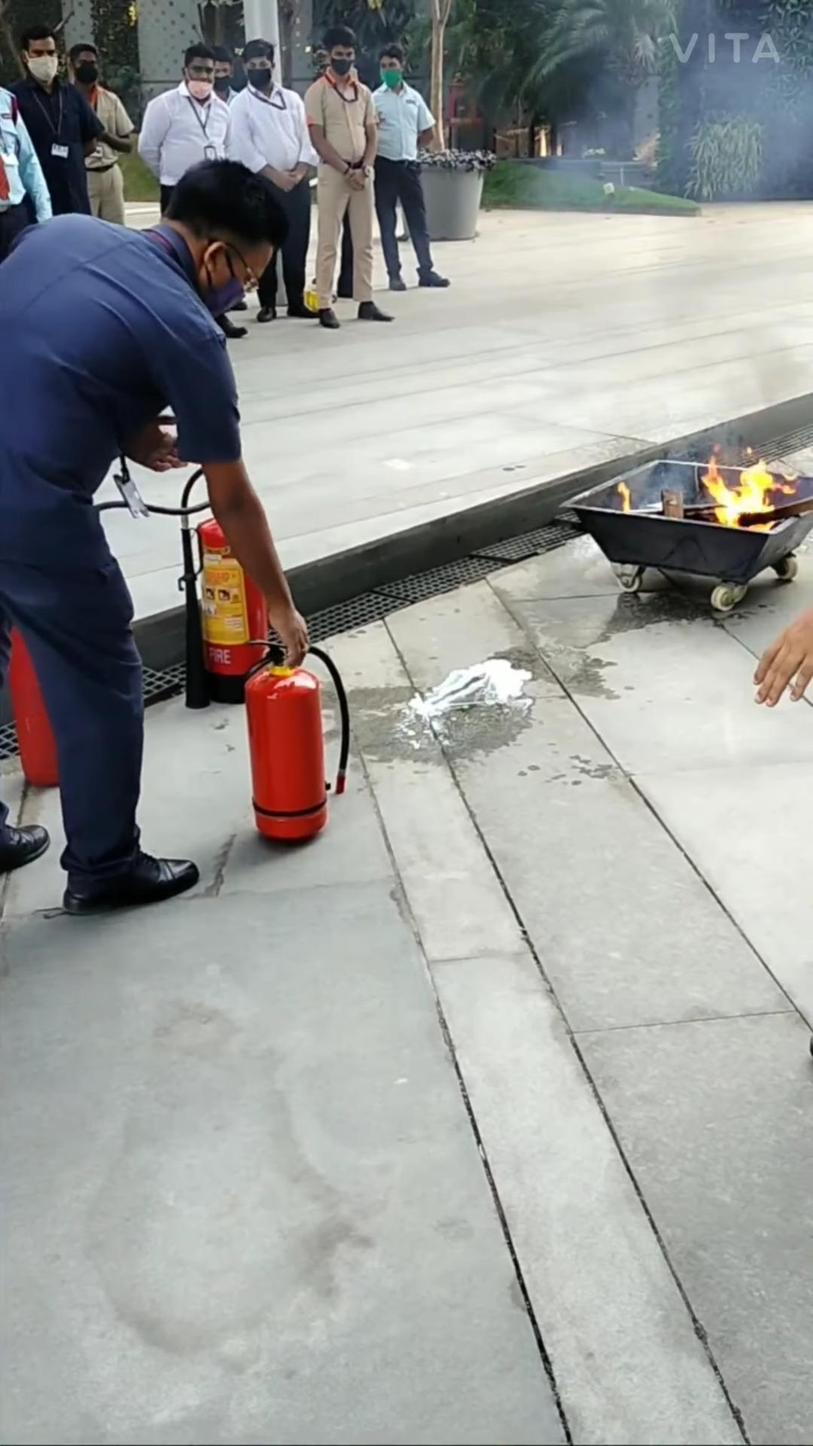FireExtinguisher: (227, 645, 359, 869), (174, 494, 294, 683), (0, 607, 98, 804)
